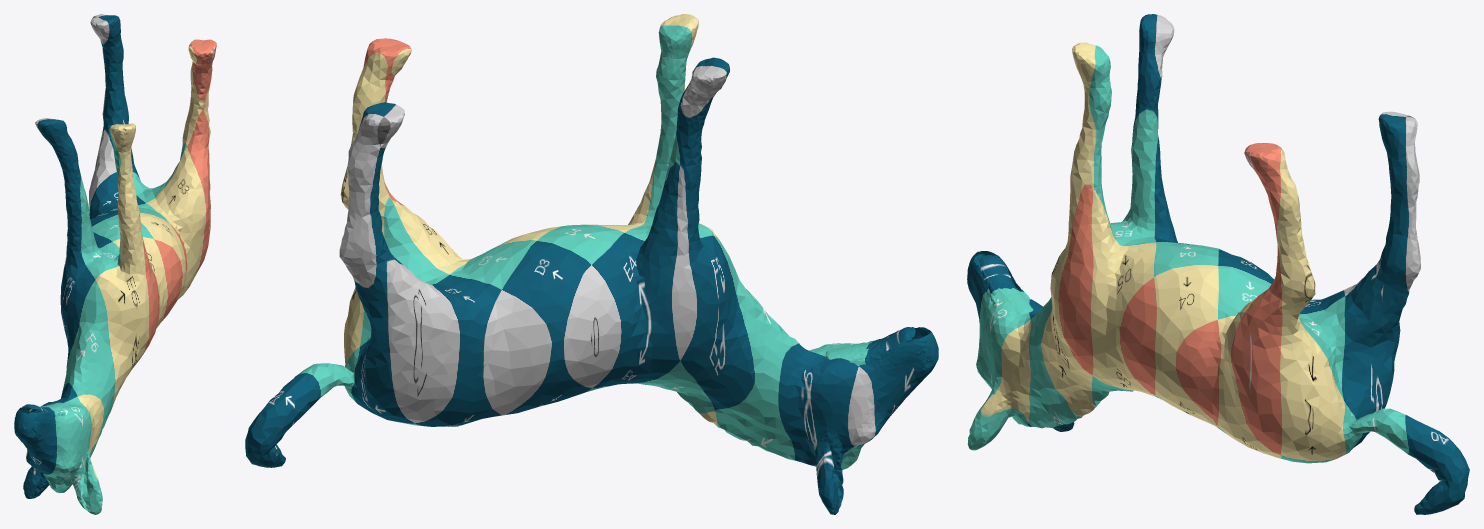
The model's file is horse_10-horse_10.obj.
3 views of the same model, side by side, from view 1: azimuth 30°, elevation 25°; view 2: azimuth 150°, elevation 25°; view 3: azimuth 270°, elevation 25° (orthographic). The views are drawn at different scales.
Visible parts, largest first — view 1: horse_10-horse_10_export; view 2: horse_10-horse_10_export; view 3: horse_10-horse_10_export.
Part boxes in pixels (box(x1,y1,x2,y2)): horse_10-horse_10_export: box(14, 14, 216, 514); horse_10-horse_10_export: box(245, 14, 938, 514); horse_10-horse_10_export: box(967, 14, 1469, 514).
Size of the model in its own units: 0.7878 by 0.7952 by 0.8038.
